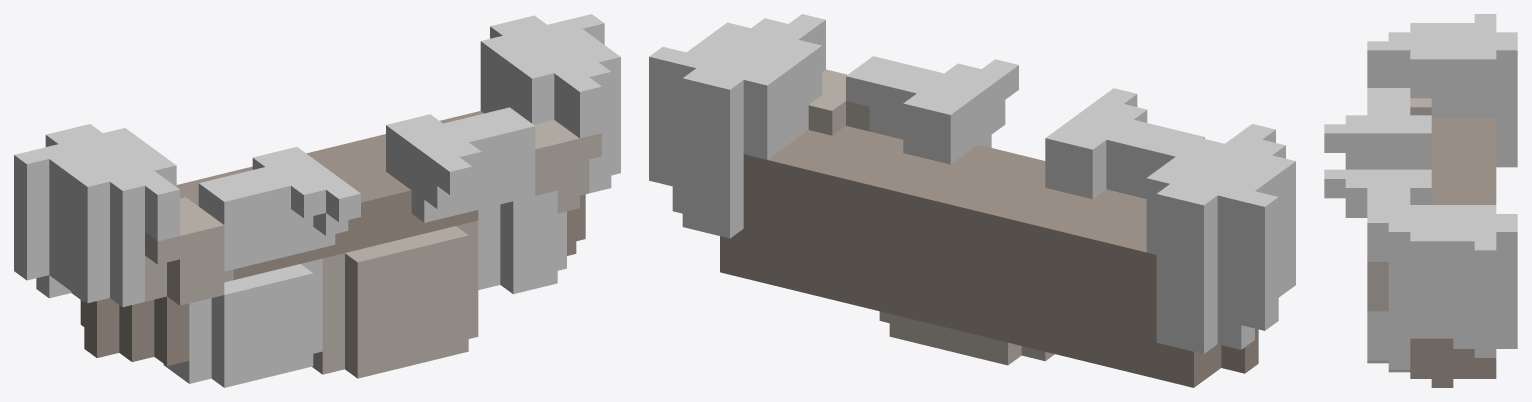
File: beard_short_trimmed.glb
The picture shows the model from 3 angles, left to right: view 1: azimuth 30°, elevation 25°; view 2: azimuth 150°, elevation 25°; view 3: azimuth 270°, elevation 25°; orthographic projection. The views are drawn at different scales.
Visible parts, largest first — view 1: VoxelVisual; view 2: VoxelVisual; view 3: VoxelVisual.
Boxes of the visible parts, box(x1,y1,x2,y2) form: VoxelVisual: box(14, 14, 620, 387); VoxelVisual: box(649, 14, 1295, 387); VoxelVisual: box(1324, 14, 1517, 387).
Size of what is drawn, in the model's own units: 1.62 by 0.625 by 0.5625.
